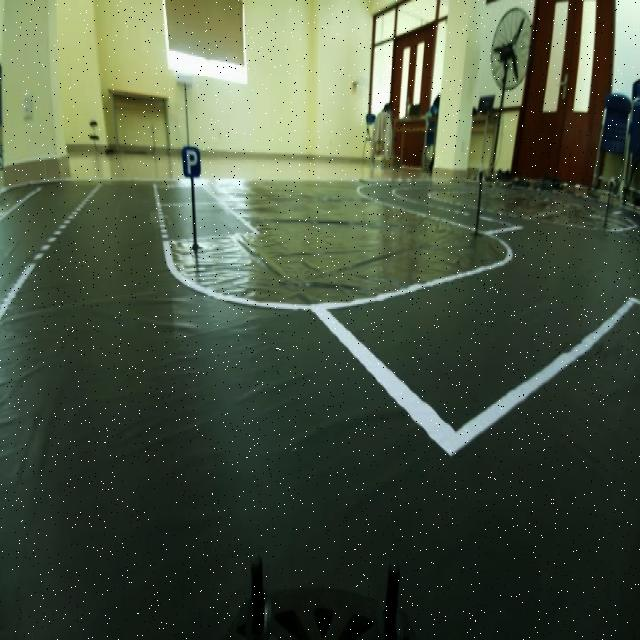parking: (180, 138, 203, 180)
